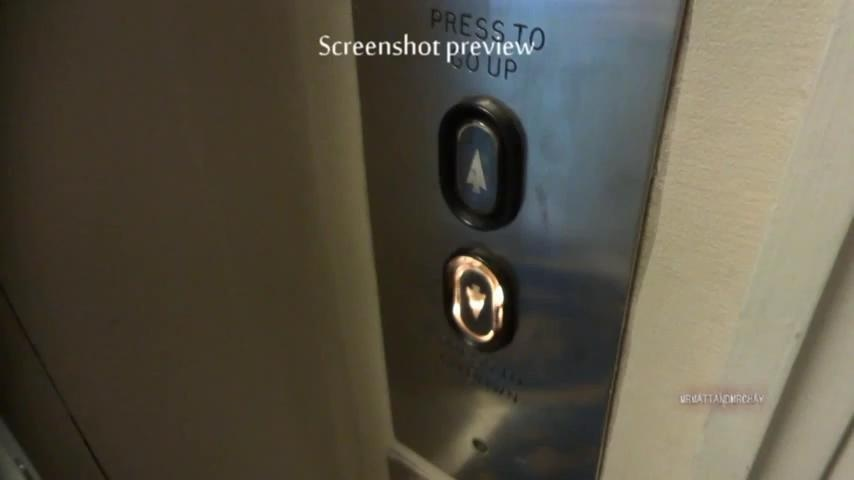down: (444, 243, 521, 355)
up: (438, 97, 527, 233)
